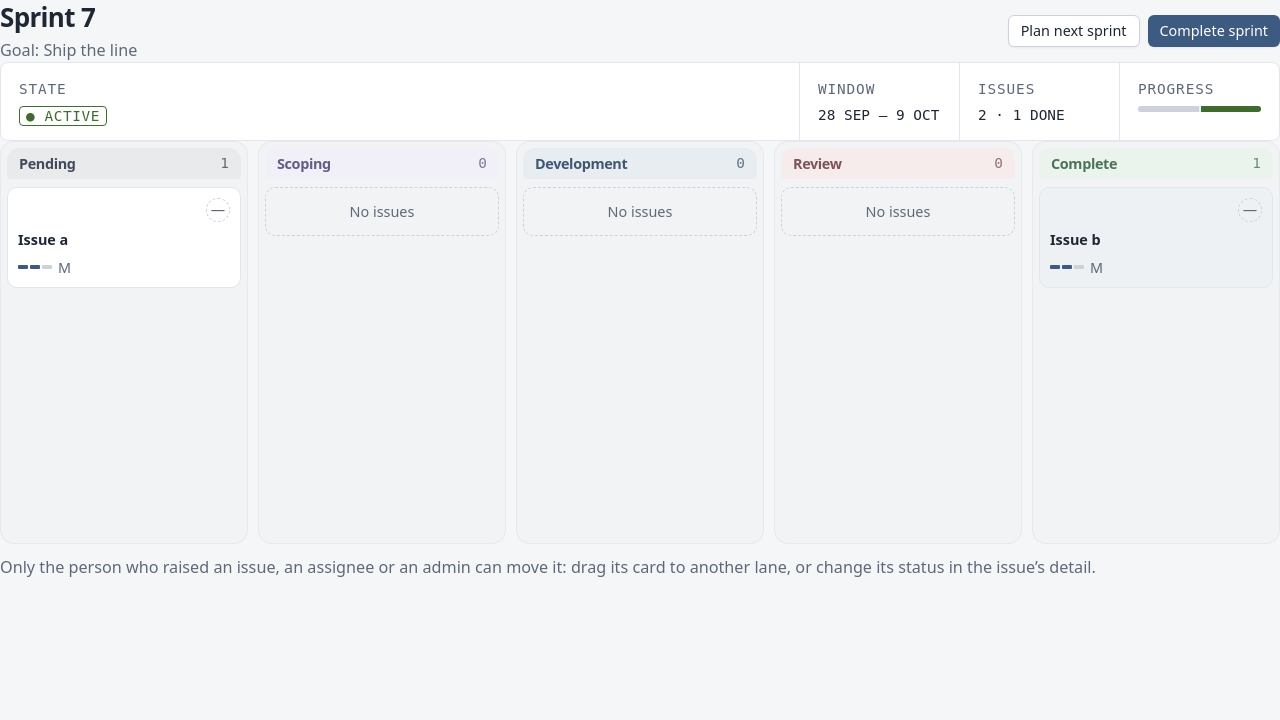
Test case: Complete and Start sprint › asks before completing, counting the unfinished issues, then reports them
What coordinates should you click on to do the following:
click the button "Complete sprint"
I would click on:
 (1214, 31)
Its box is [1148,15,1279,47].
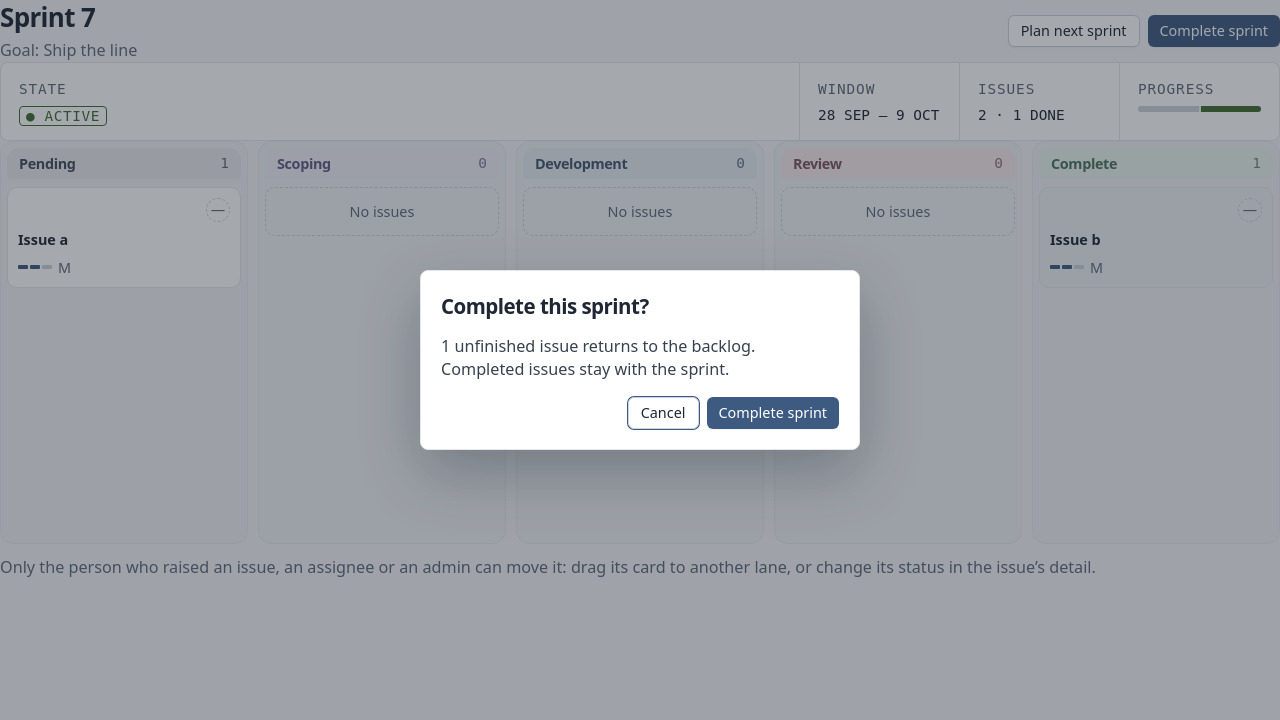
Result: the dialog shows "1 unfinished issue returns to the backlog. Completed issues stay with the sprint." at [441,335,755,380]
What coordinates should you click on to do the following:
click the button "Complete sprint"
I would click on:
 (773, 413)
Its box is [706,397,839,429].
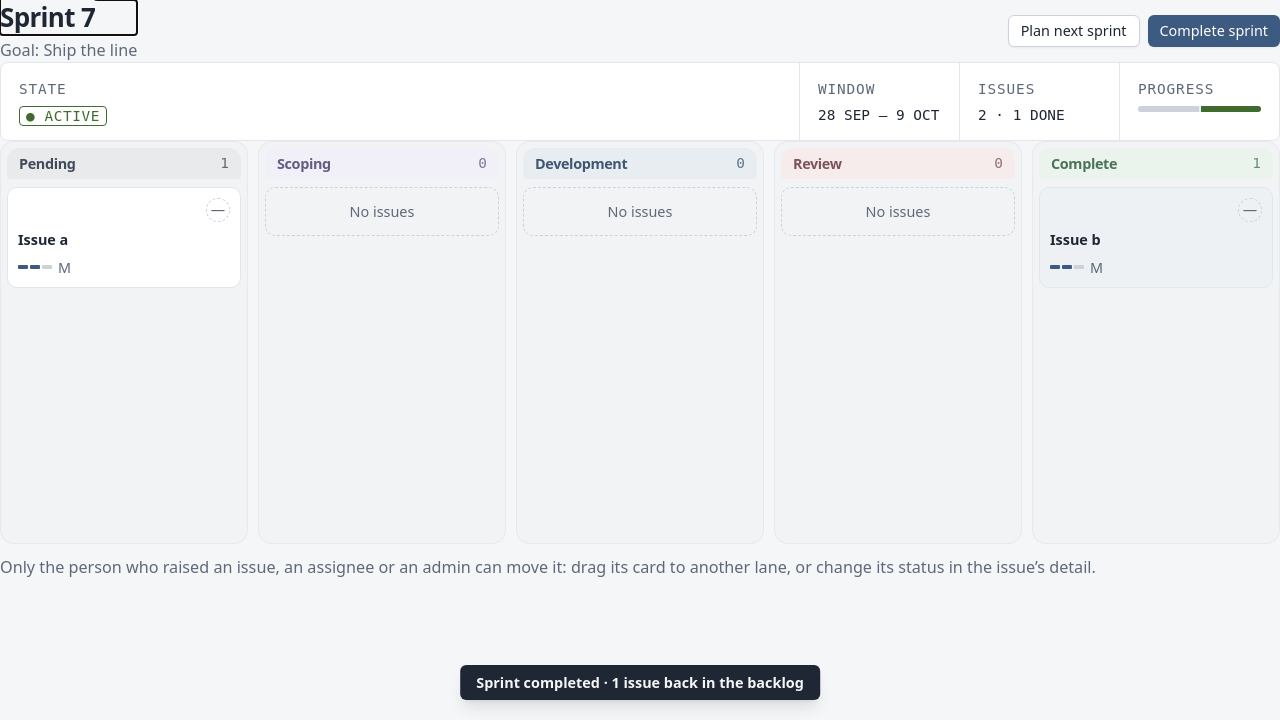
Result: the text "Sprint completed · 1 issue back in the backlog" is shown at [460,665,820,700]
